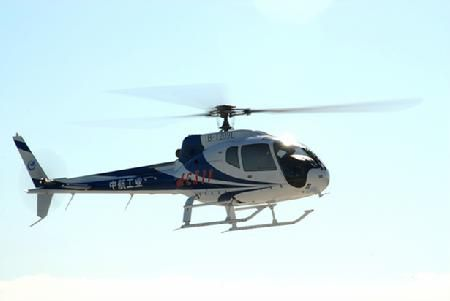Aeronef_commercial: (9, 77, 429, 247)
